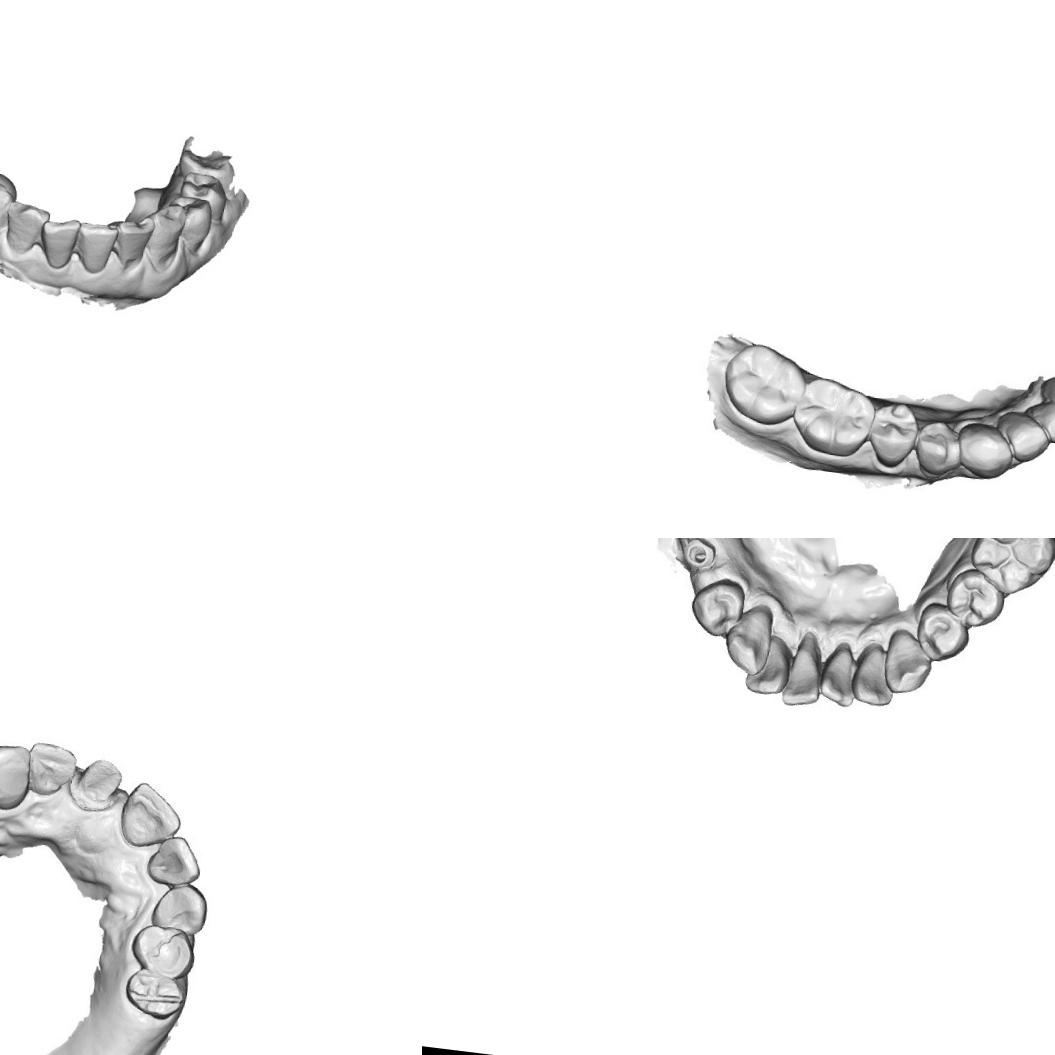canine: (721, 602, 782, 679), (882, 628, 940, 698), (144, 200, 191, 278), (960, 420, 1014, 478), (156, 882, 210, 940), (0, 741, 32, 815), (0, 168, 17, 240)
implant: (679, 538, 717, 577)
incisor: (118, 779, 182, 849), (778, 640, 827, 710), (0, 196, 53, 259), (814, 640, 861, 710), (742, 634, 790, 702), (851, 645, 900, 709), (35, 210, 83, 272), (72, 214, 118, 278), (1001, 412, 1048, 470), (26, 742, 74, 796), (76, 754, 123, 808), (150, 835, 198, 887), (110, 216, 152, 272), (1031, 399, 1055, 444), (1040, 370, 1055, 417)
molar: (719, 336, 807, 421), (796, 376, 874, 452), (970, 538, 1055, 600)
premolar: (684, 572, 746, 644), (942, 564, 1008, 628), (124, 963, 190, 1021), (132, 922, 196, 980), (916, 603, 974, 664), (174, 168, 233, 226), (912, 418, 966, 480), (870, 401, 922, 464), (165, 194, 216, 256)
